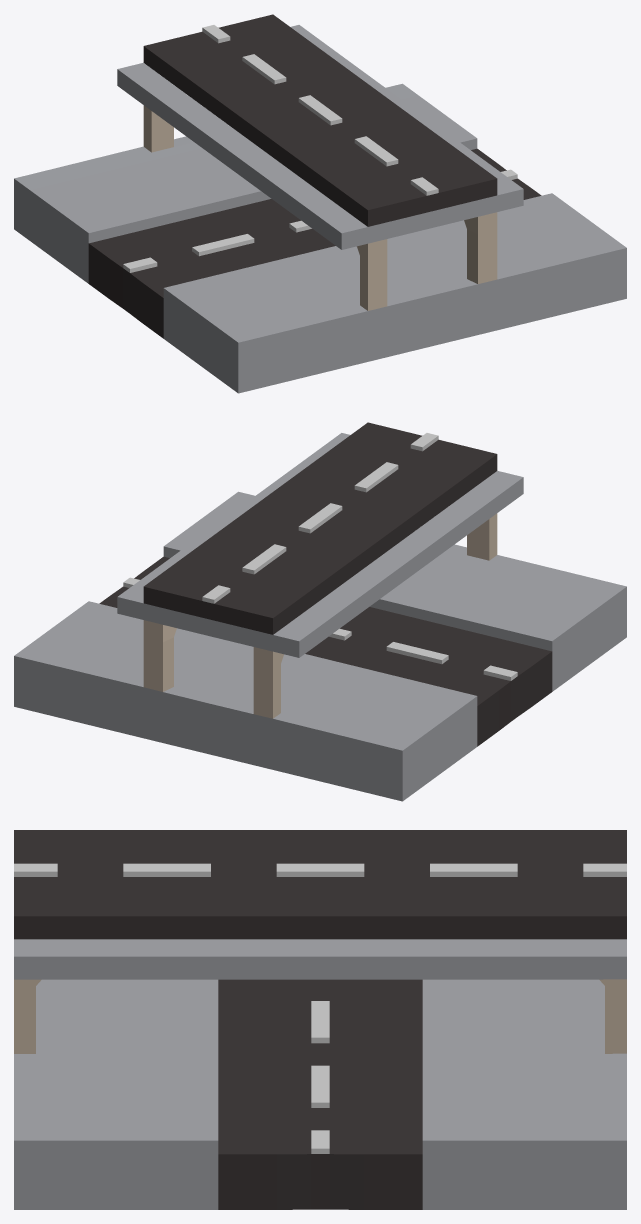
The model's file is quaternius-street-street-bridge-underpass.glb.
The picture shows the model from 3 angles, top to bottom: view 1: azimuth 30°, elevation 25°; view 2: azimuth 150°, elevation 25°; view 3: azimuth 270°, elevation 25°; orthographic projection. The views are drawn at different scales.
Parts seen in each view (by area): view 1: Street_Bridge_Underpass; view 2: Street_Bridge_Underpass; view 3: Street_Bridge_Underpass.
Boxes of the visible parts, x1=… form: Street_Bridge_Underpass: x1=14, y1=14, x2=626, y2=393; Street_Bridge_Underpass: x1=14, y1=422, x2=626, y2=801; Street_Bridge_Underpass: x1=14, y1=830, x2=626, y2=1209.
Bounding box in the file's own units: 2 × 0.766 × 2.
